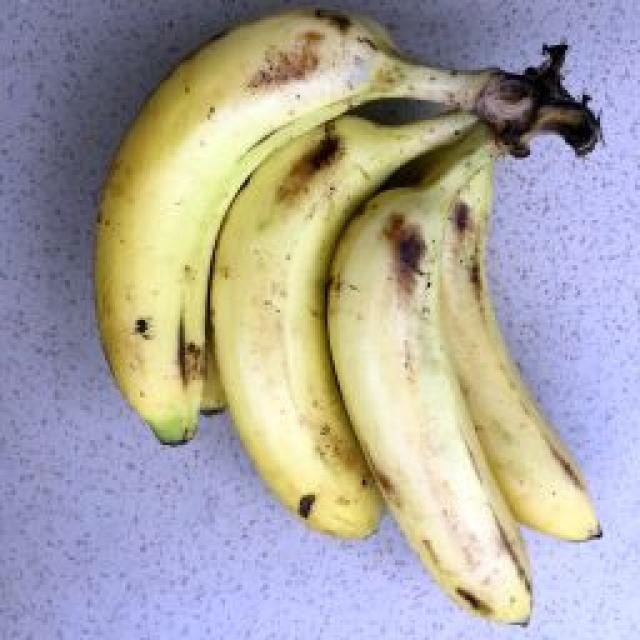banana: (35, 106, 580, 554)
